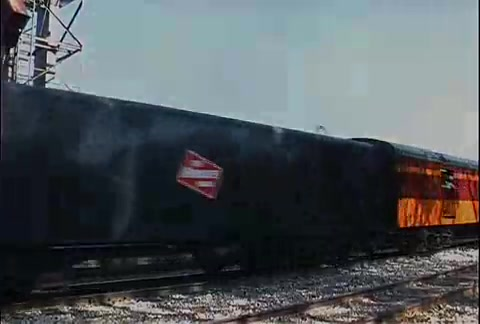train: (1, 1, 480, 297)
